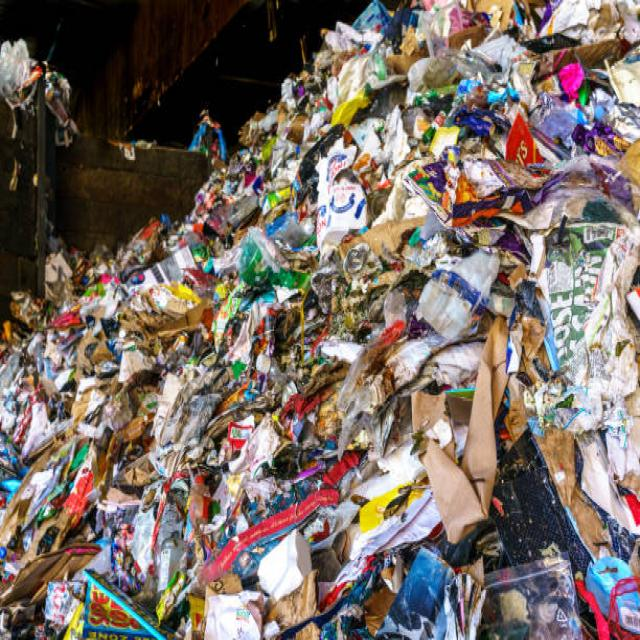plastic: (50, 246, 548, 587)
